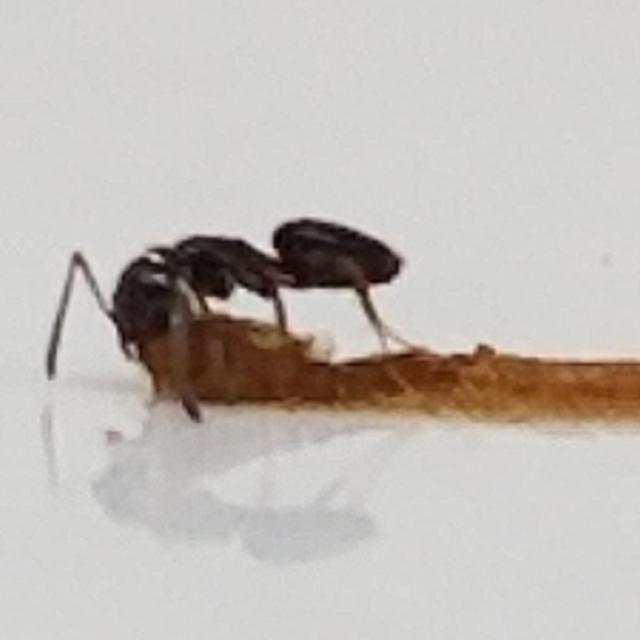Tapinoma: (48, 162, 450, 436)
